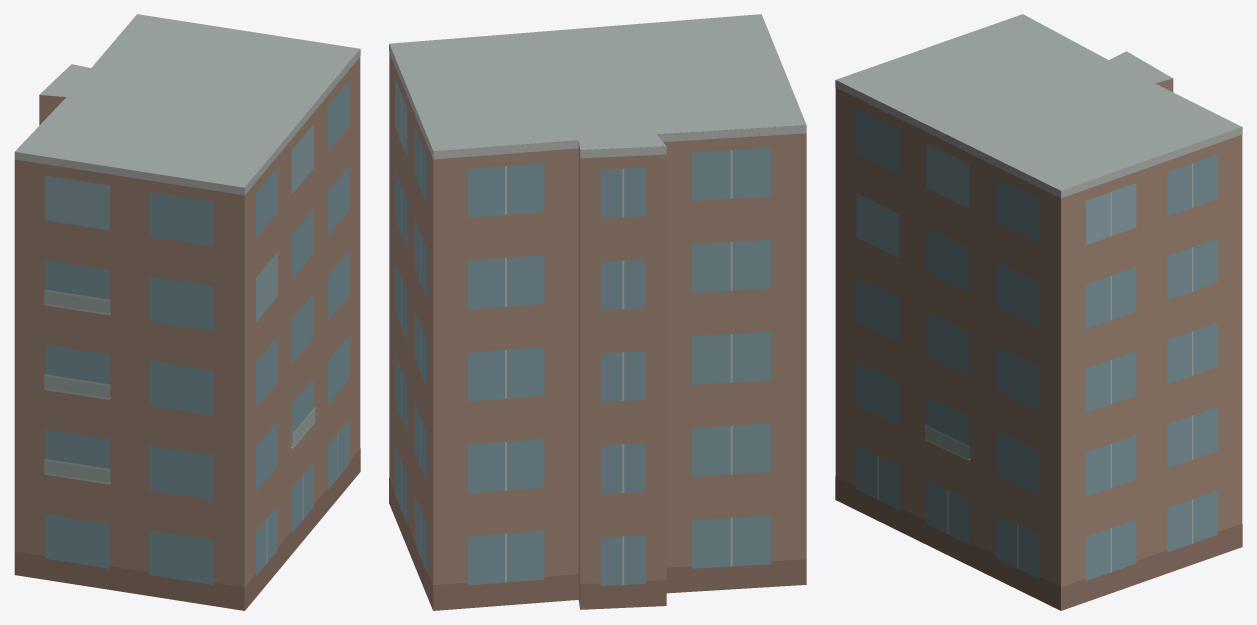
File: survey-upis-32742664.glb
3 views of the same model, side by side, from view 1: azimuth 30°, elevation 25°; view 2: azimuth 150°, elevation 25°; view 3: azimuth 270°, elevation 25° (orthographic). The views are drawn at different scales.
Visible parts, largest first — view 1: survey-upis-32742664.tmp; view 2: survey-upis-32742664.tmp; view 3: survey-upis-32742664.tmp.
Boxes of the visible parts, left/top/right/bottom form: survey-upis-32742664.tmp: left=14, top=14, right=360, bottom=610; survey-upis-32742664.tmp: left=389, top=14, right=806, bottom=610; survey-upis-32742664.tmp: left=835, top=14, right=1242, bottom=610.
Size of the model in its own units: 12.24 by 13.55 by 11.91.
